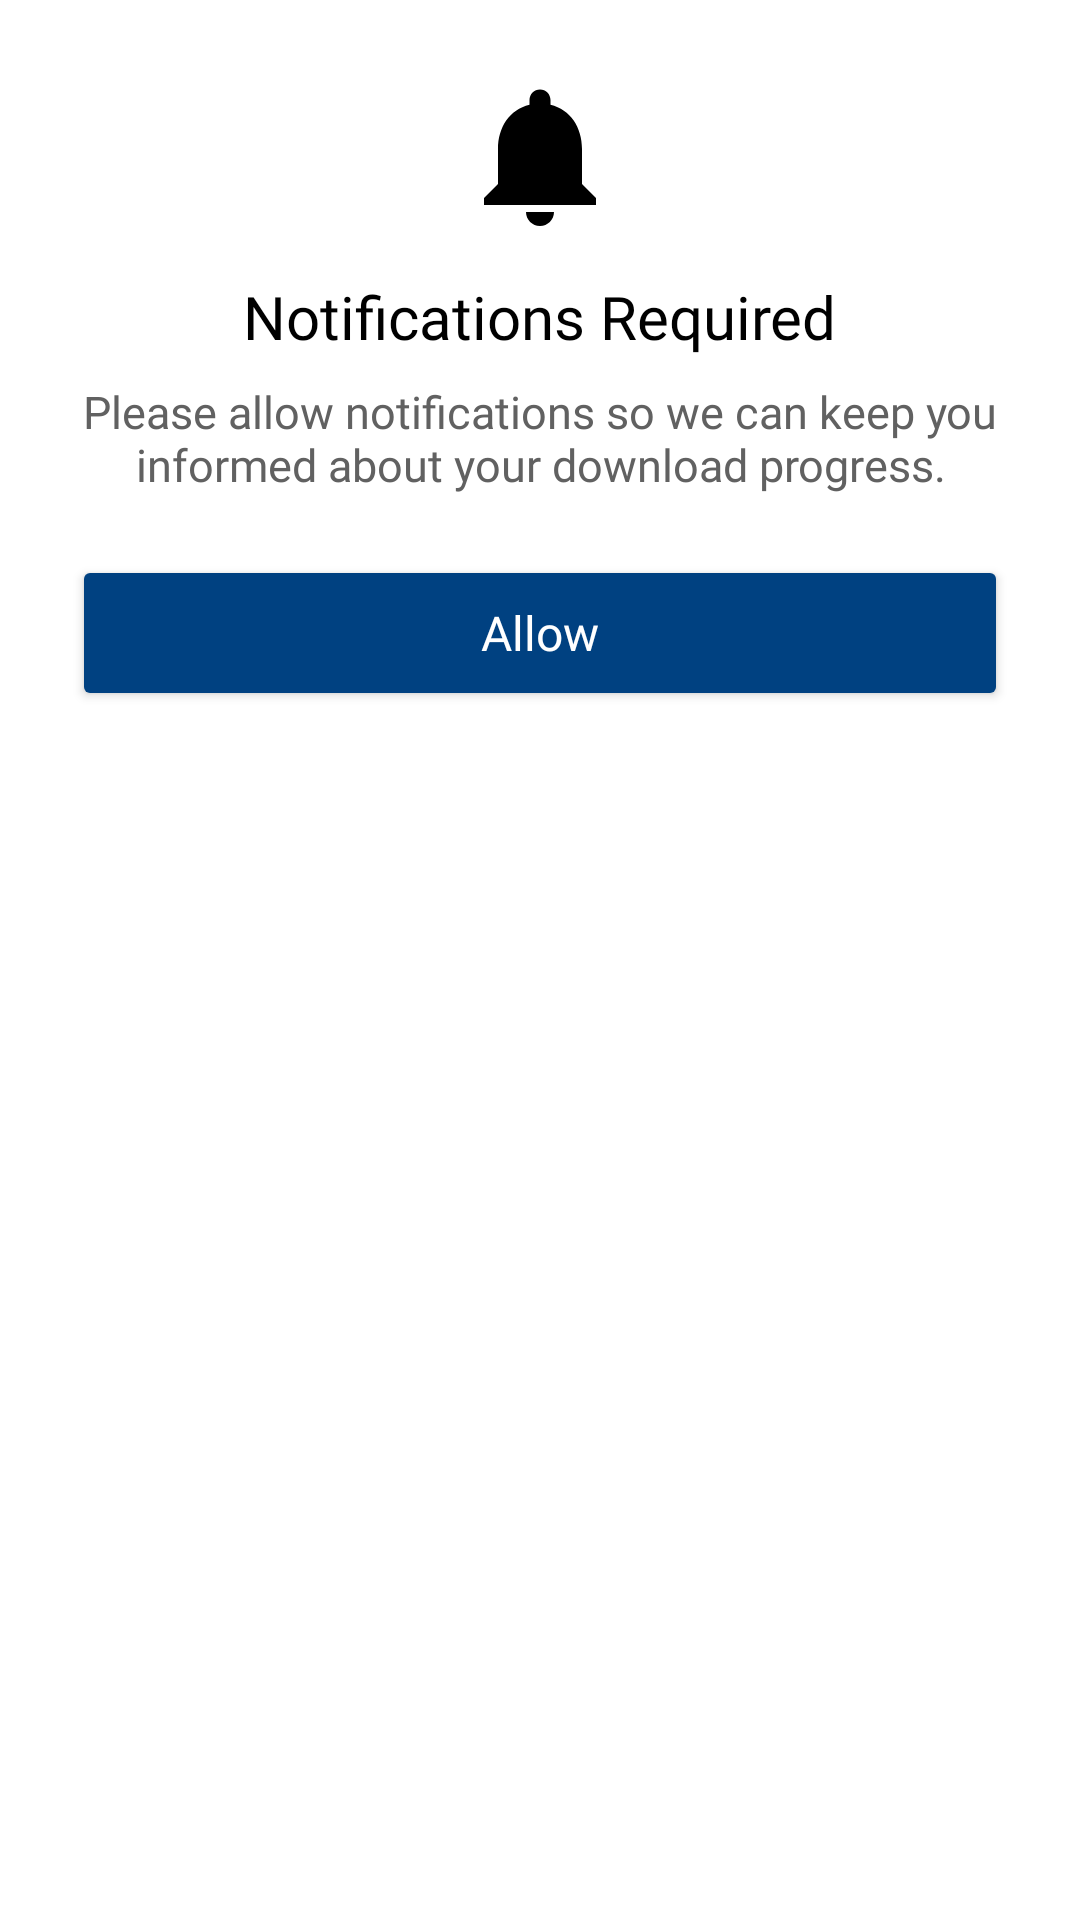

Point at icon controls on the screen. Image size 1080px×1920px, points as [x,y].
notification bell: [540,157]
